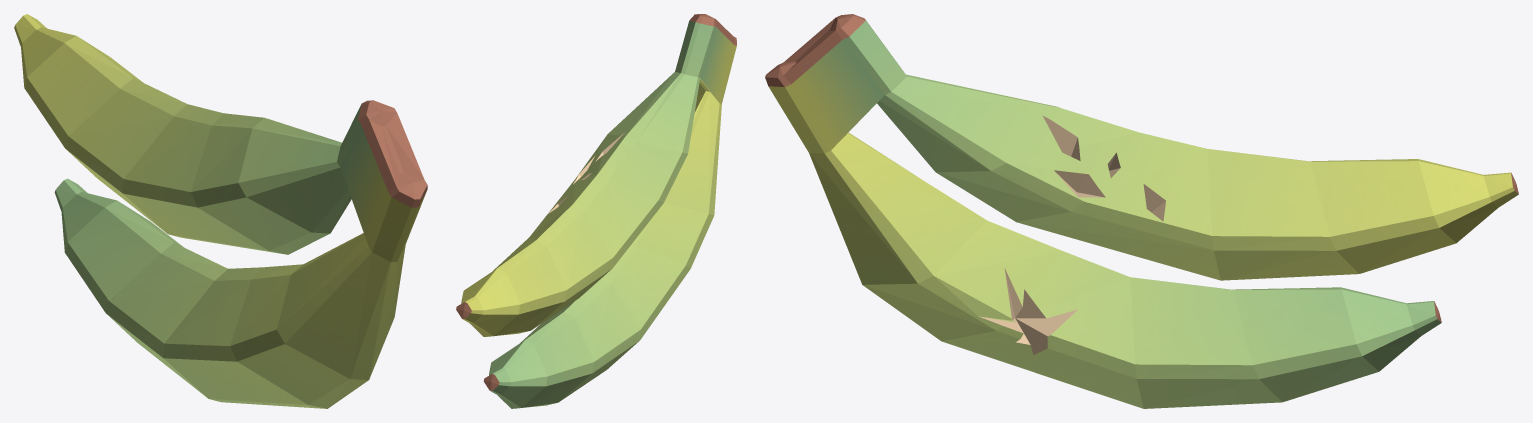
The model's file is SM_Punctured_Banana02.fbx.
The picture shows the model from 3 angles, left to right: view 1: azimuth 30°, elevation 25°; view 2: azimuth 150°, elevation 25°; view 3: azimuth 270°, elevation 25°; orthographic projection. The views are drawn at different scales.
Parts seen in each view (by area): view 1: SM_Punctured_Banana02; view 2: SM_Punctured_Banana02; view 3: SM_Punctured_Banana02.
Boxes of the visible parts, x1,y1,x2,y2 form: SM_Punctured_Banana02: (14, 14, 427, 408); SM_Punctured_Banana02: (456, 14, 736, 408); SM_Punctured_Banana02: (765, 14, 1518, 408).
Size of the model in its own units: 0.0431 by 0.2406 by 0.1385.
